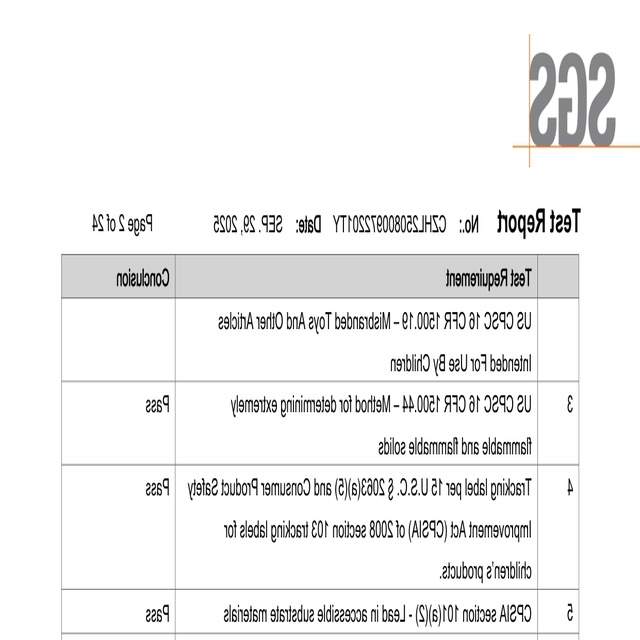sgs: (530, 52, 615, 147)
